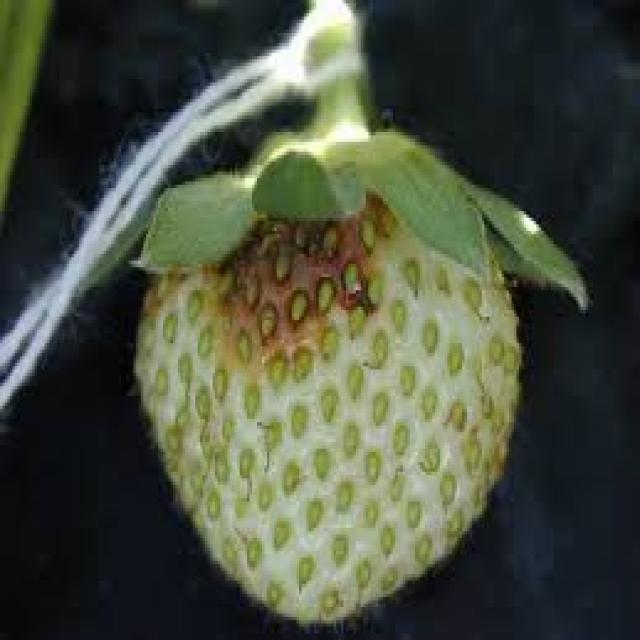Mancha negra Antracnosis: (152, 163, 535, 625)
